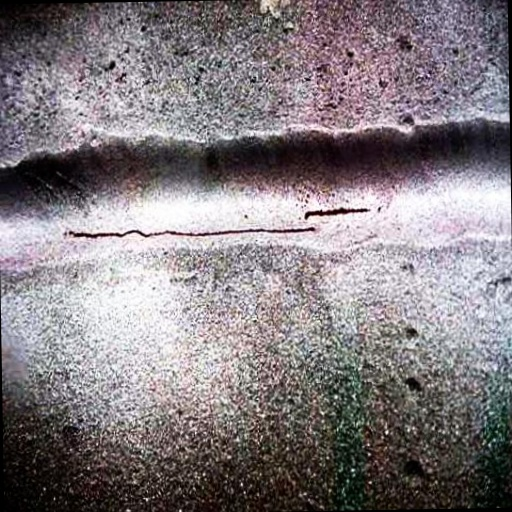crack: (58, 214, 322, 249), (295, 200, 368, 221)
